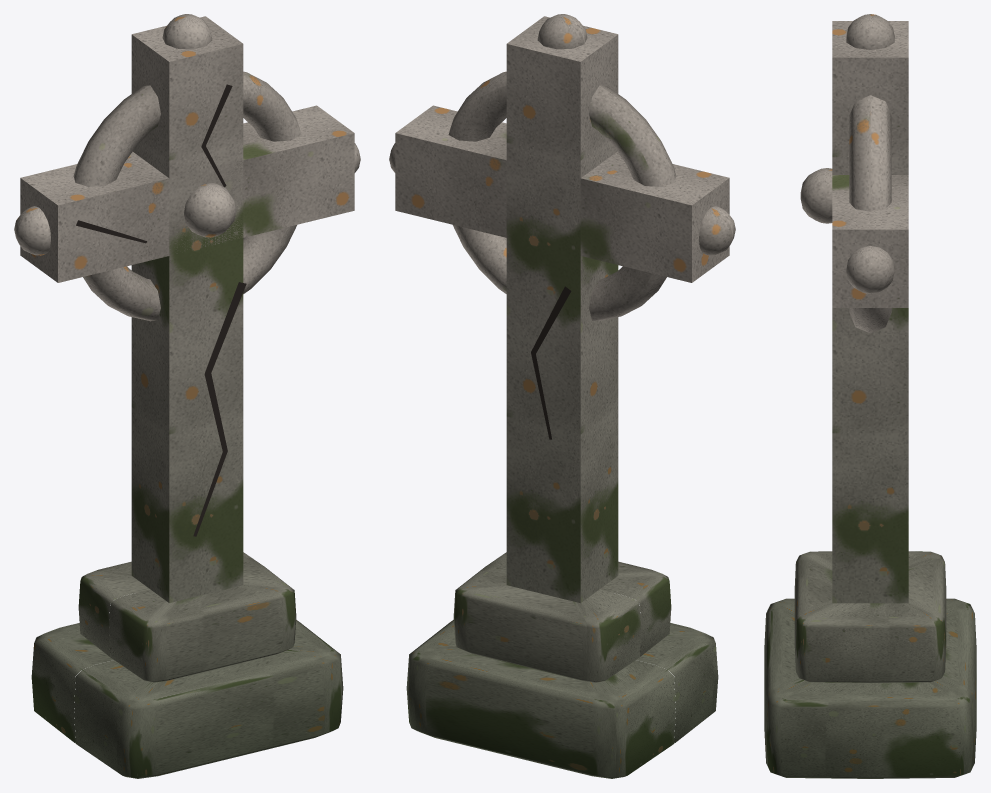
The model's file is 55c18154-7493-48b1-abee-423f345789ac.glb.
3 views of the same model, side by side, from view 1: azimuth 30°, elevation 25°; view 2: azimuth 150°, elevation 25°; view 3: azimuth 270°, elevation 25° (orthographic).
Parts seen in each view (by area): view 1: Stone, Crack2, Crack; view 2: Stone, Crack2; view 3: Stone.
Part boxes in pixels (x1,y1,x2,y2): Stone: (14, 14, 360, 778); Crack2: (193, 282, 246, 536); Crack: (76, 84, 232, 243); Stone: (389, 14, 735, 778); Crack2: (531, 286, 571, 439); Stone: (764, 14, 976, 778).
Bounding box in the file's own units: 0.78 × 1.55 × 0.4179.
Materials: 2 (1 with a texture image).
